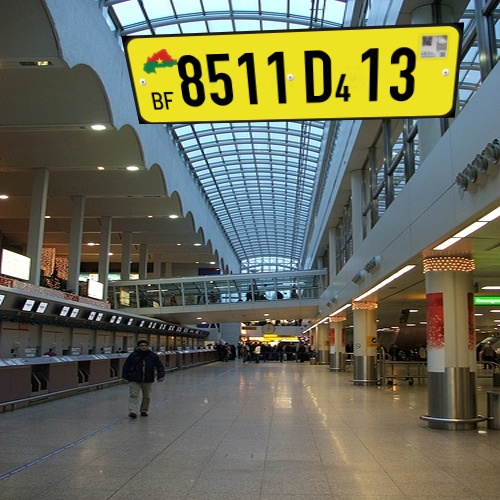plate: (103, 16, 475, 141)
